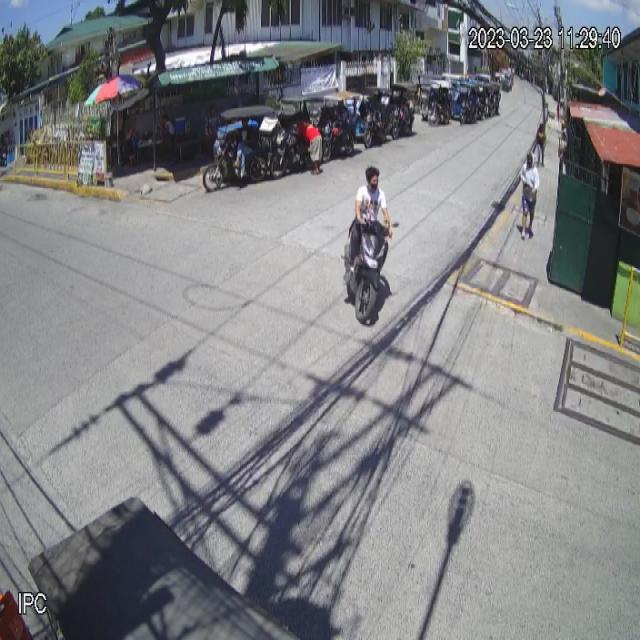Motorcycle: (340, 210, 400, 322)
